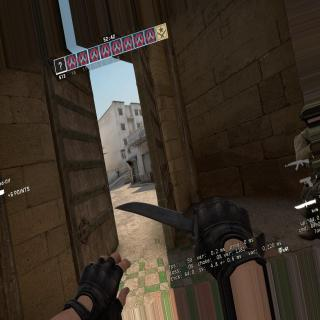CT-Body: (292, 104, 320, 240), (116, 170, 120, 178)
CT-Head: (298, 104, 319, 132), (117, 170, 118, 172)
